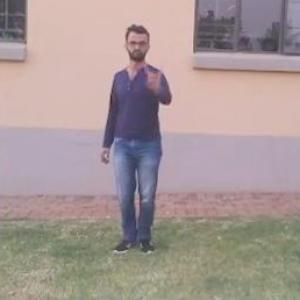takeoff-hand: (141, 54, 171, 96)
